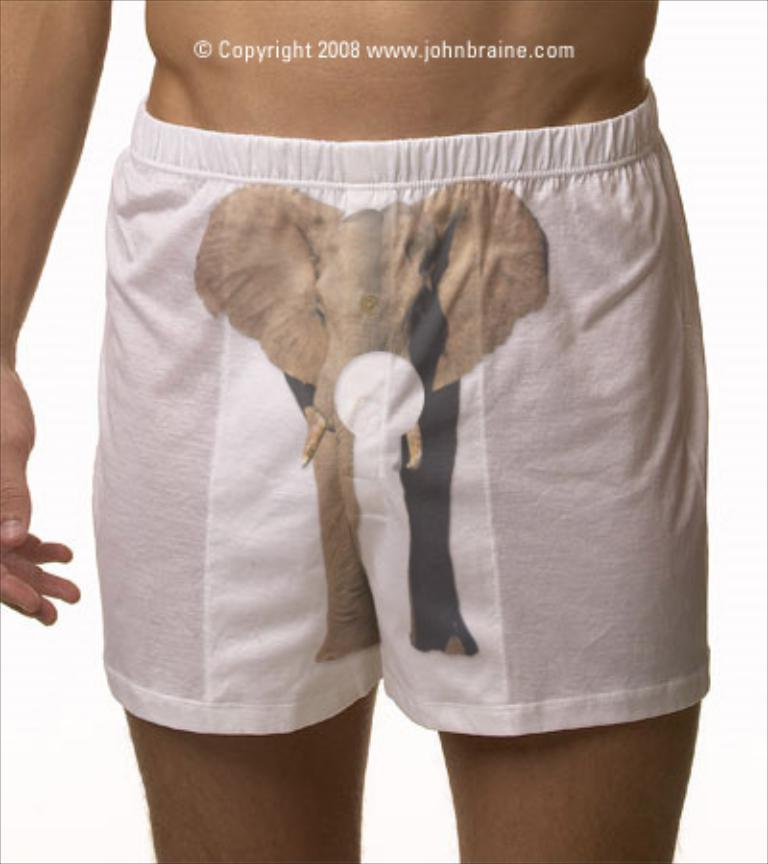Person: (0, 0, 714, 864)
